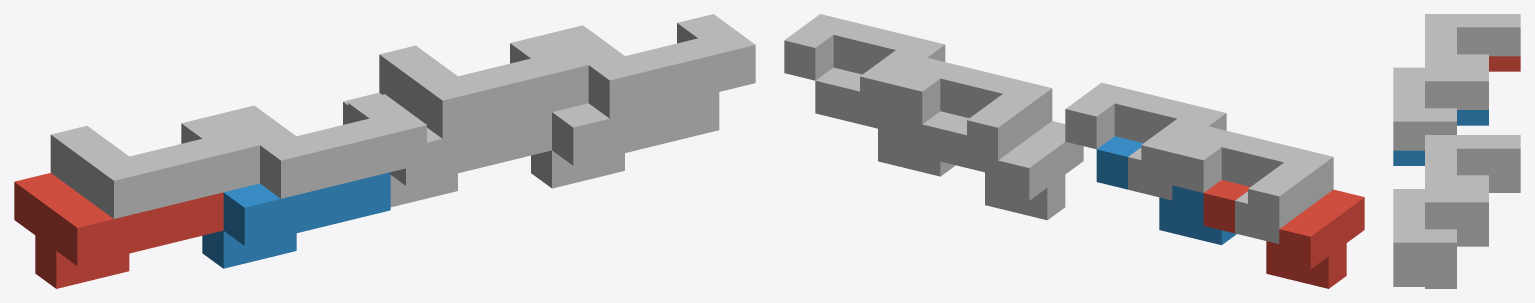
The model's file is tiling.obj.
3 renders of one model, left to right at view 1: azimuth 30°, elevation 25°; view 2: azimuth 150°, elevation 25°; view 3: azimuth 270°, elevation 25°, orthographic. The views are drawn at different scales.
Parts seen in each view (by area): view 1: copy_1_domain_3, copy_1_domain_7, copy_1_domain_1, copy_1_domain_8, copy_1_domain_4, copy_1_domain_2, copy_1_domain_6, copy_1_domain_5; view 2: copy_1_domain_7, copy_1_domain_3, copy_1_domain_8, copy_1_domain_4, copy_1_domain_1, copy_1_domain_5, copy_1_domain_2, copy_1_domain_6; view 3: copy_1_domain_8, copy_1_domain_4, copy_1_domain_3, copy_1_domain_7, copy_1_domain_6, copy_1_domain_2, copy_1_domain_1, copy_1_domain_5.
Boxes of the visible parts, x1,y1,x2,y2 form: copy_1_domain_3: (50,114,259,218); copy_1_domain_7: (379,34,588,138); copy_1_domain_1: (14,173,223,288); copy_1_domain_8: (547,14,755,118); copy_1_domain_4: (218,94,426,198); copy_1_domain_2: (202,172,390,268); copy_1_domain_6: (531,92,719,188); copy_1_domain_5: (343,92,551,207); copy_1_domain_7: (891,57,1052,175); copy_1_domain_3: (1172,126,1333,243); copy_1_domain_8: (784,14,945,131); copy_1_domain_4: (1065,82,1226,200); copy_1_domain_1: (1203,180,1364,288); copy_1_domain_5: (922,111,1083,220); copy_1_domain_2: (1096,136,1236,245); copy_1_domain_6: (815,67,955,176); copy_1_domain_8: (1393,189,1488,271); copy_1_domain_4: (1393,67,1488,150); copy_1_domain_3: (1425,14,1520,67); copy_1_domain_7: (1425,135,1520,188); copy_1_domain_6: (1393,231,1488,288); copy_1_domain_2: (1393,110,1488,165); copy_1_domain_1: (1489,56,1520,71); copy_1_domain_5: (1489,177,1520,192).
Bounding box in the file's own units: 18 × 3 × 4.
